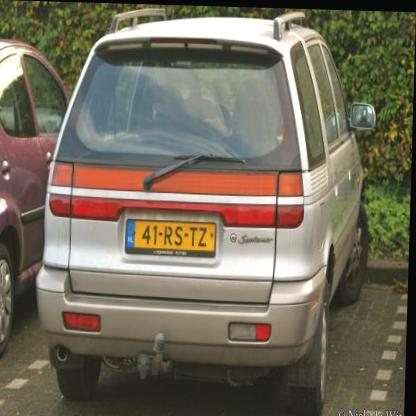License_Plate: (125, 218, 218, 259)
